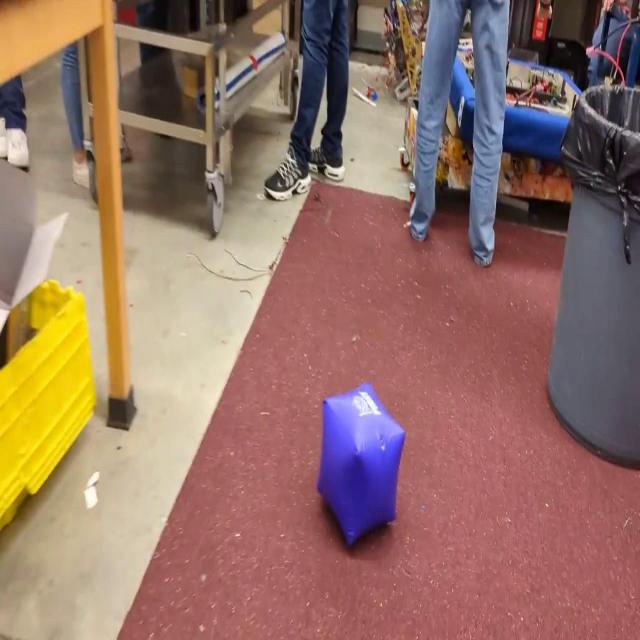frc_cube: (317, 379, 405, 550)
